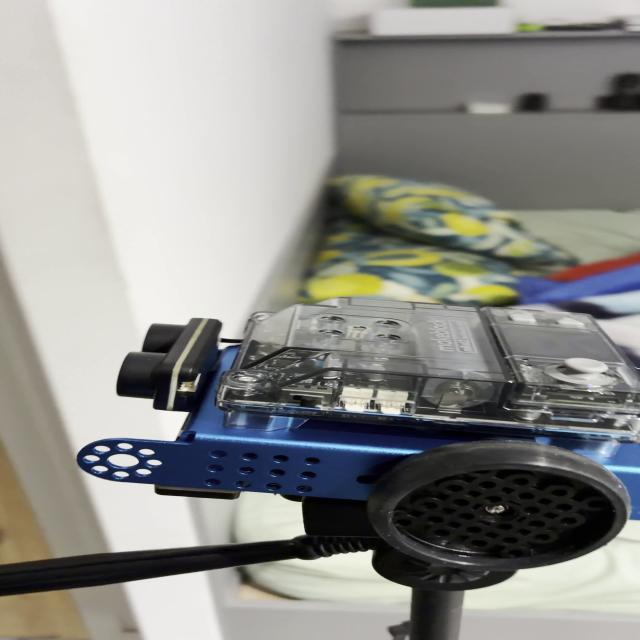mbot-detection: (77, 288, 640, 580)
